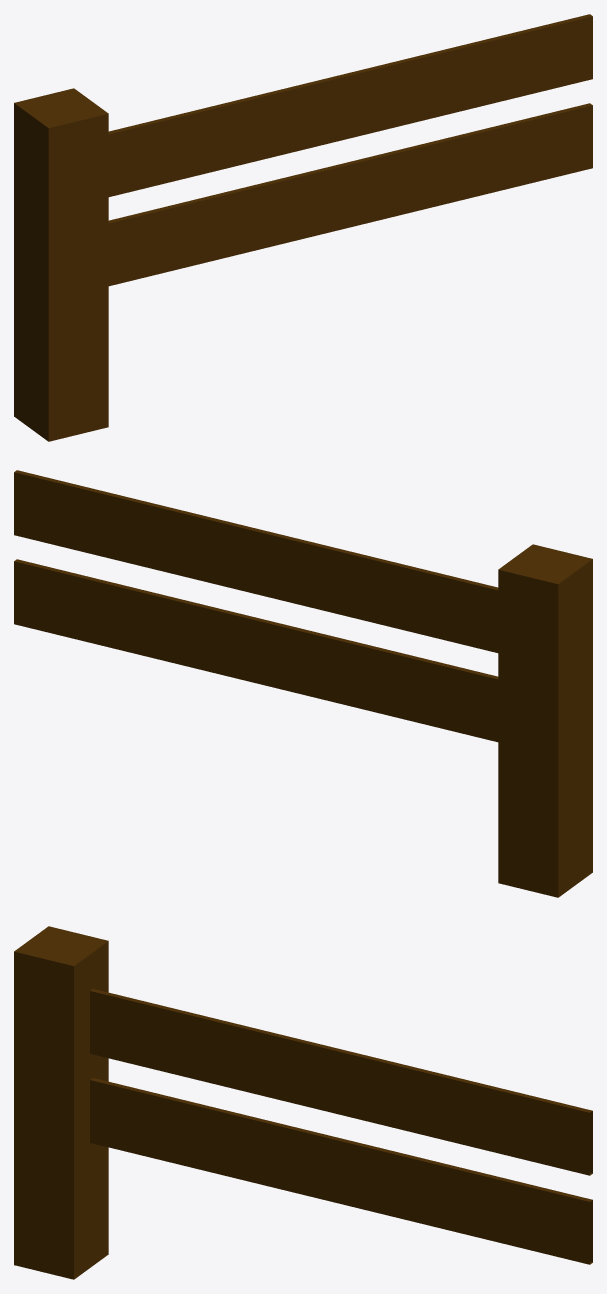
The model's file is fence2.fbx.
3 renders of one model, top to bottom at view 1: azimuth 30°, elevation 25°; view 2: azimuth 150°, elevation 25°; view 3: azimuth 330°, elevation 25°, orthographic.
Parts seen in each view (by area): view 1: polySurface15; view 2: polySurface15; view 3: polySurface15.
Part boxes in pixels (x1,y1,x2,y2): polySurface15: [14, 14, 592, 441]; polySurface15: [14, 470, 592, 897]; polySurface15: [14, 926, 592, 1279].
Bounding box in the file's own units: 9.32 × 4.99 × 1.
